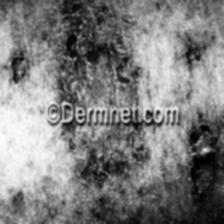Non-Cancerous Skin Condition: (54, 28, 150, 182)
